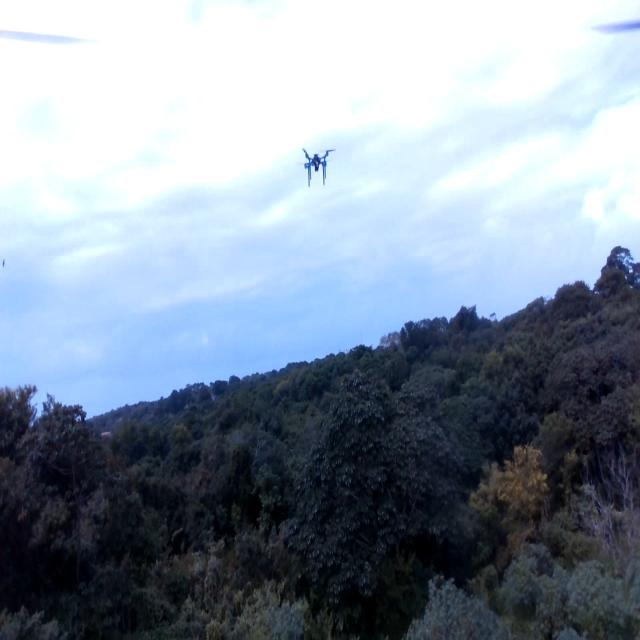-uav-: (295, 133, 337, 191)
